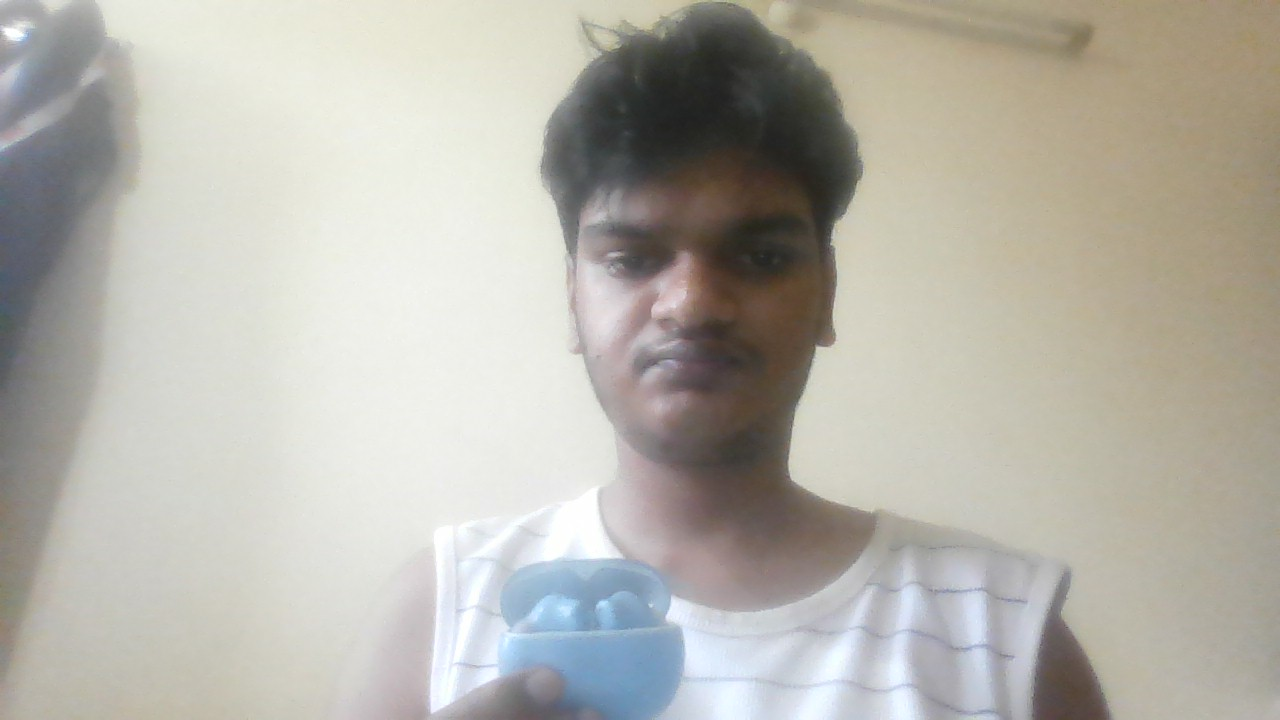earphone: (498, 563, 683, 712)
